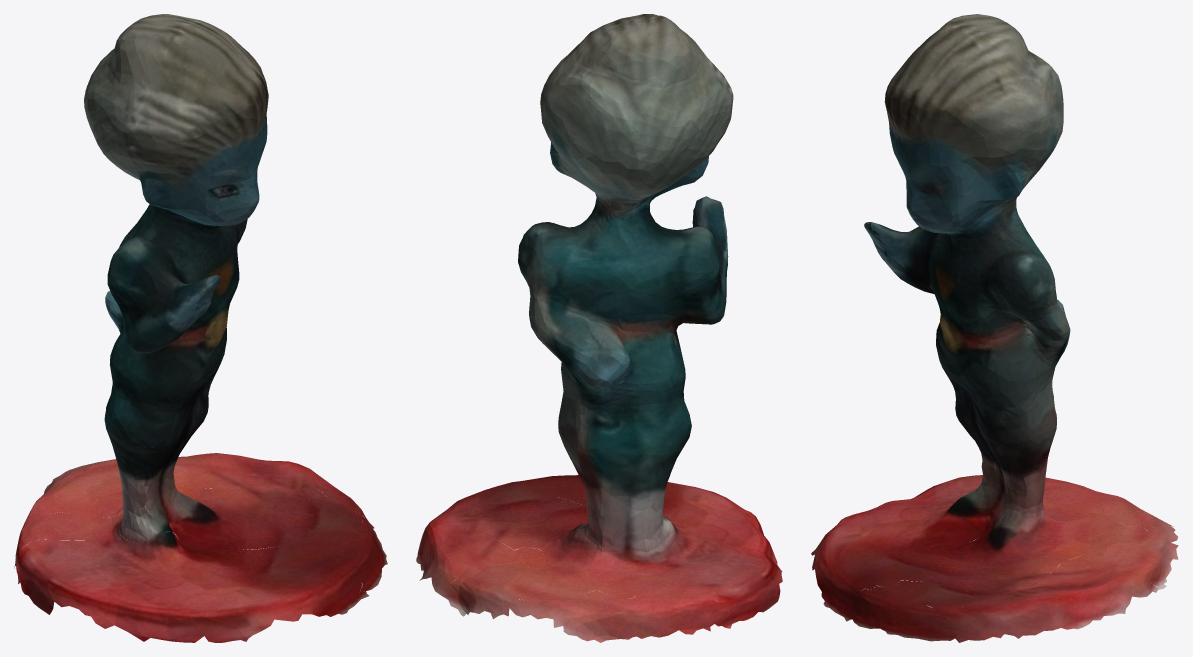
File: asset.glb
The picture shows the model from 3 angles, left to right: view 1: azimuth 30°, elevation 25°; view 2: azimuth 150°, elevation 25°; view 3: azimuth 270°, elevation 25°; orthographic projection. The views are drawn at different scales.
Visible parts, largest first — view 1: Mesh_0; view 2: Mesh_0; view 3: Mesh_0.
Boxes of the visible parts, x1,y1,x2,y2 form: Mesh_0: [14, 14, 387, 642]; Mesh_0: [416, 14, 782, 642]; Mesh_0: [811, 14, 1178, 642].
Size of the model in its own units: 0.397 by 0.6505 by 0.4027.
1 material, 1 textured.
